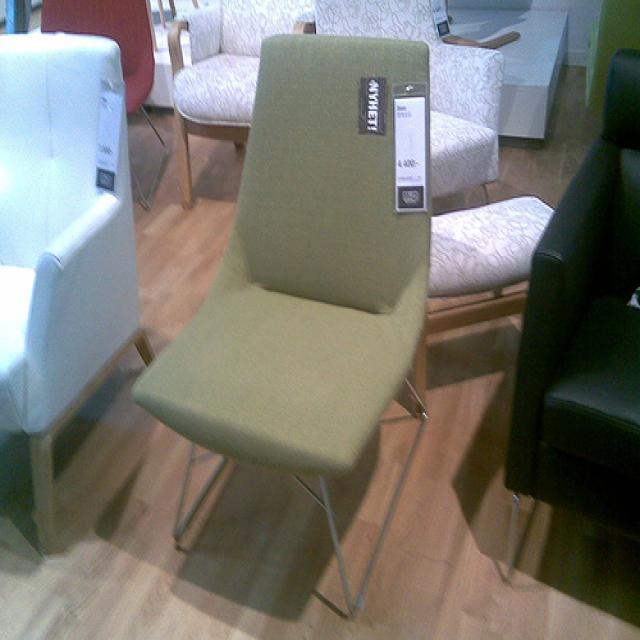chair: (130, 34, 431, 617), (1, 27, 160, 556), (502, 45, 640, 590), (316, 1, 504, 206), (166, 1, 316, 211), (35, 1, 172, 211)
